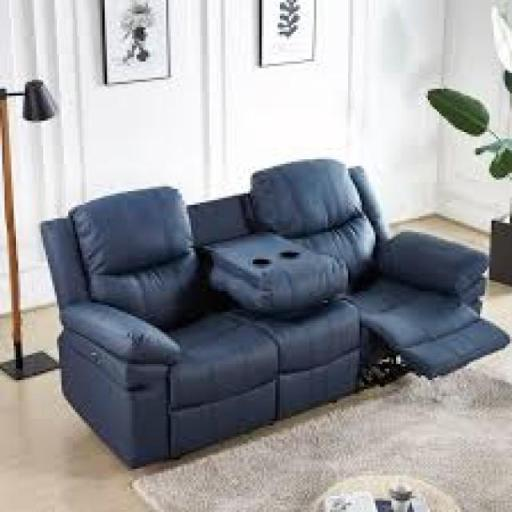sofa: (24, 143, 512, 461)
